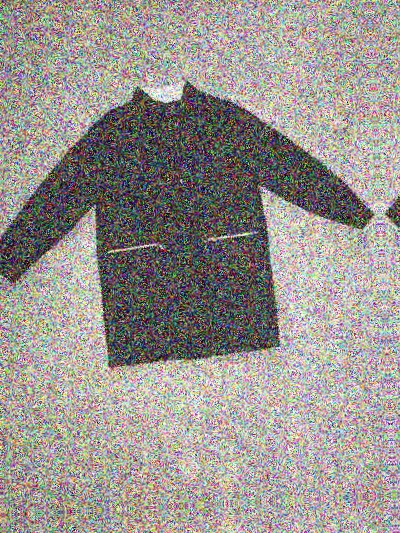Blazer: (3, 55, 372, 385), (388, 35, 400, 365)
